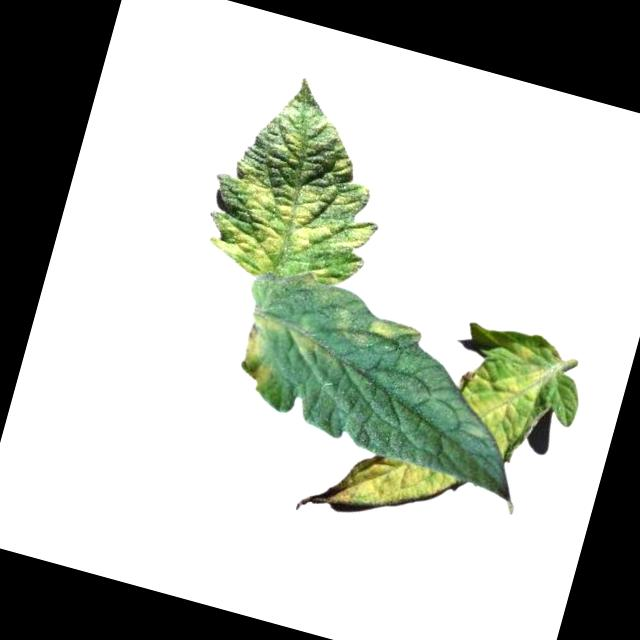Leaf_Mold: (203, 155, 386, 302), (323, 441, 457, 540), (445, 331, 546, 460), (232, 307, 327, 406), (330, 302, 418, 364)
